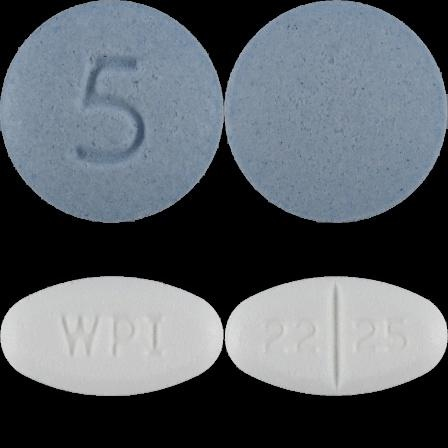50268-218: (0, 0, 224, 224)
